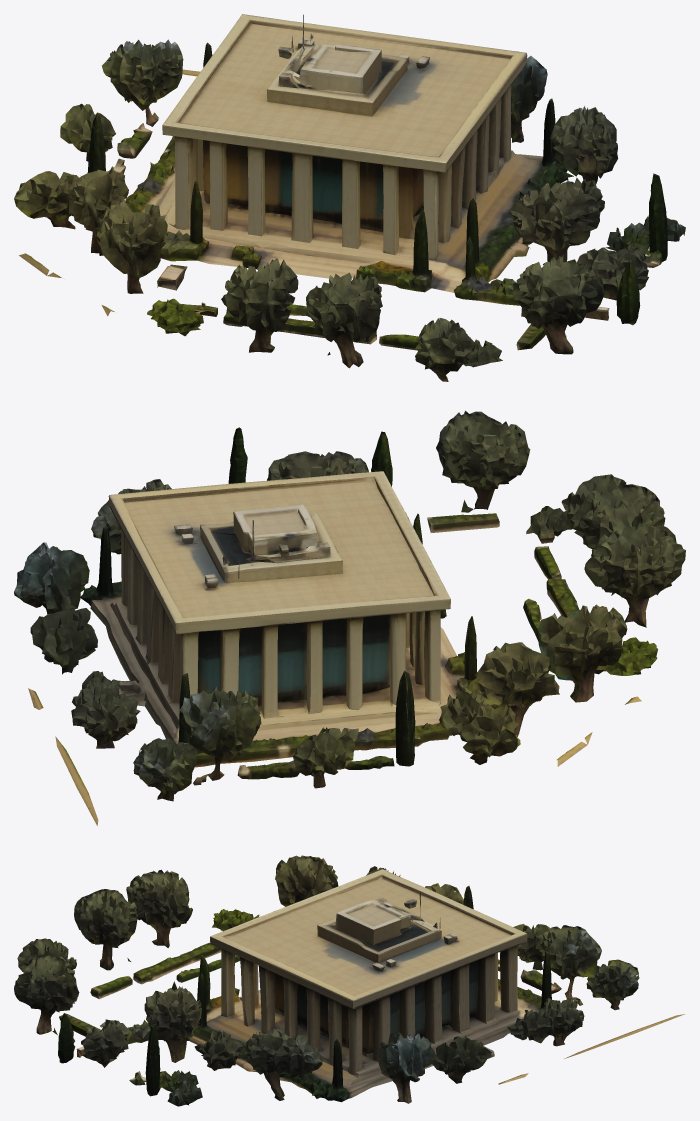
The model's file is lm_knesset_noplinth.glb.
3 renders of one model, top to bottom at view 1: azimuth 30°, elevation 25°; view 2: azimuth 150°, elevation 25°; view 3: azimuth 270°, elevation 25°, orthographic. The views are drawn at different scales.
Visible parts, largest first — view 1: geometry_0; view 2: geometry_0; view 3: geometry_0.
Boxes of the visible parts, x1=… form: geometry_0: x1=14, y1=14, x2=685, y2=381; geometry_0: x1=14, y1=410, x2=685, y2=825; geometry_0: x1=14, y1=855, x2=684, y2=1106.
Size of the model in its own units: 0.7558 by 0.2345 by 1.07.
Materials: 1 (1 with a texture image).
